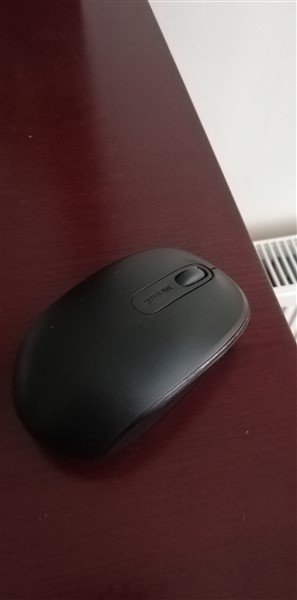mouse: (4, 227, 261, 478)
